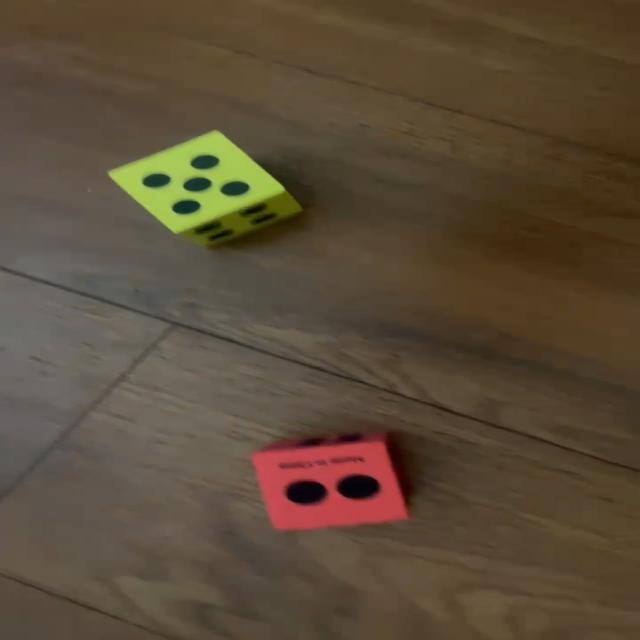red_block: (255, 432, 411, 530)
